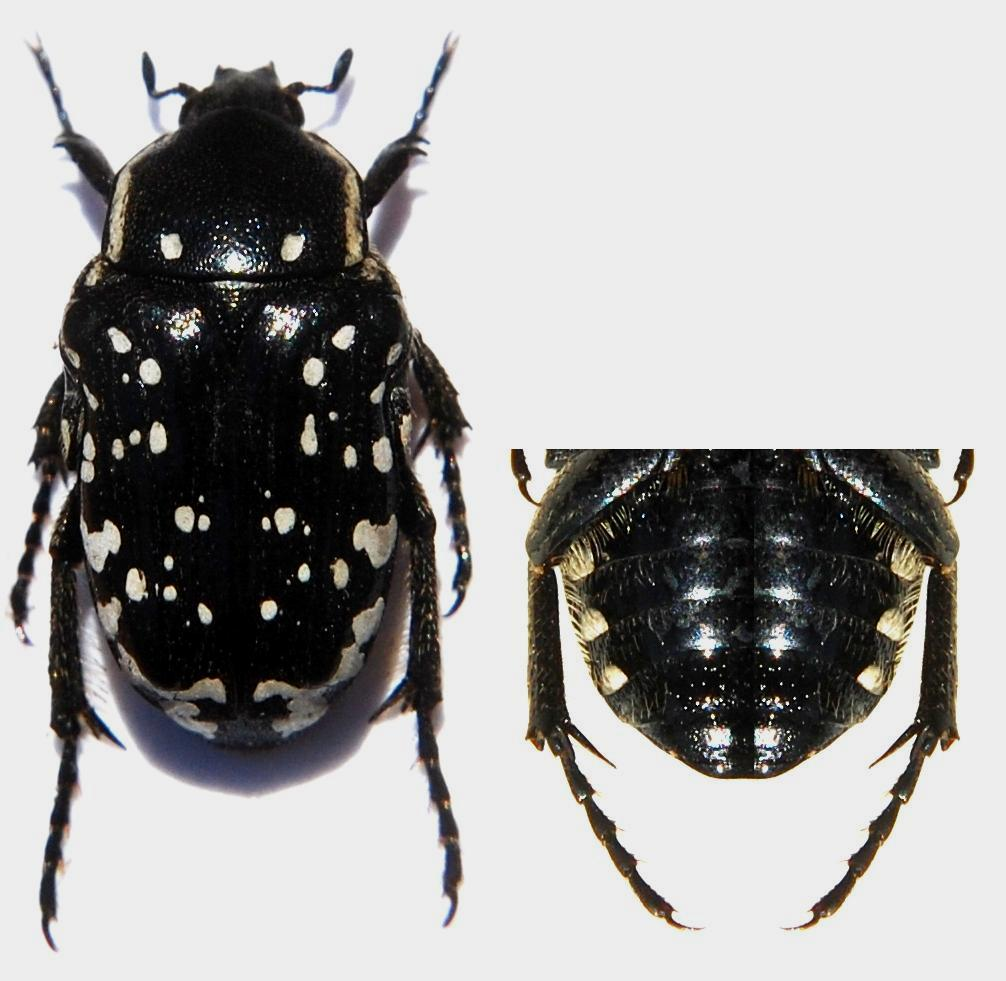Oxythyrea_cinctella: (1, 19, 505, 934)
